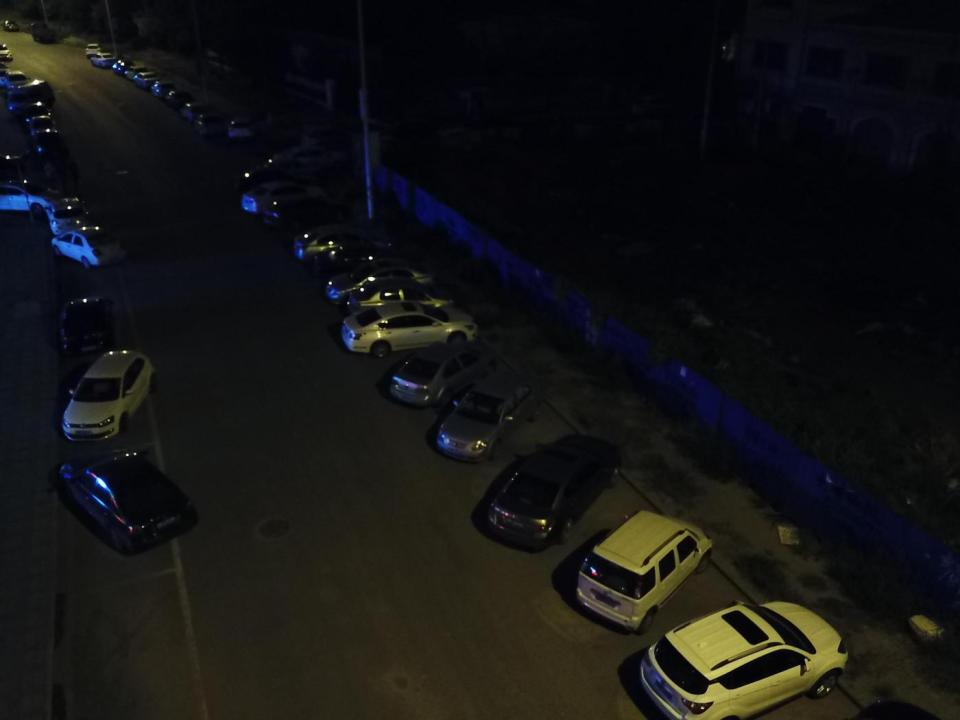car: (638, 599, 849, 720), (572, 506, 716, 634), (487, 434, 625, 549), (63, 447, 196, 556), (433, 370, 547, 462), (61, 344, 162, 446), (338, 302, 480, 356), (388, 341, 500, 409), (347, 276, 459, 324), (325, 258, 440, 304), (289, 222, 392, 268), (60, 290, 119, 358), (50, 223, 132, 271), (312, 244, 424, 278), (264, 196, 356, 229), (240, 180, 326, 215), (231, 167, 312, 199), (272, 144, 347, 172), (45, 193, 91, 236), (252, 160, 320, 188), (32, 126, 69, 159), (228, 112, 260, 142), (194, 112, 232, 137), (22, 112, 57, 134), (22, 101, 51, 125), (166, 88, 197, 110), (180, 102, 210, 124), (148, 81, 178, 99), (132, 71, 162, 89), (109, 58, 139, 76), (122, 64, 150, 80), (89, 52, 117, 68), (85, 41, 102, 59), (2, 18, 22, 32), (1, 43, 13, 62)
truck: (29, 19, 72, 45)
van: (8, 79, 53, 111), (4, 71, 30, 94)
